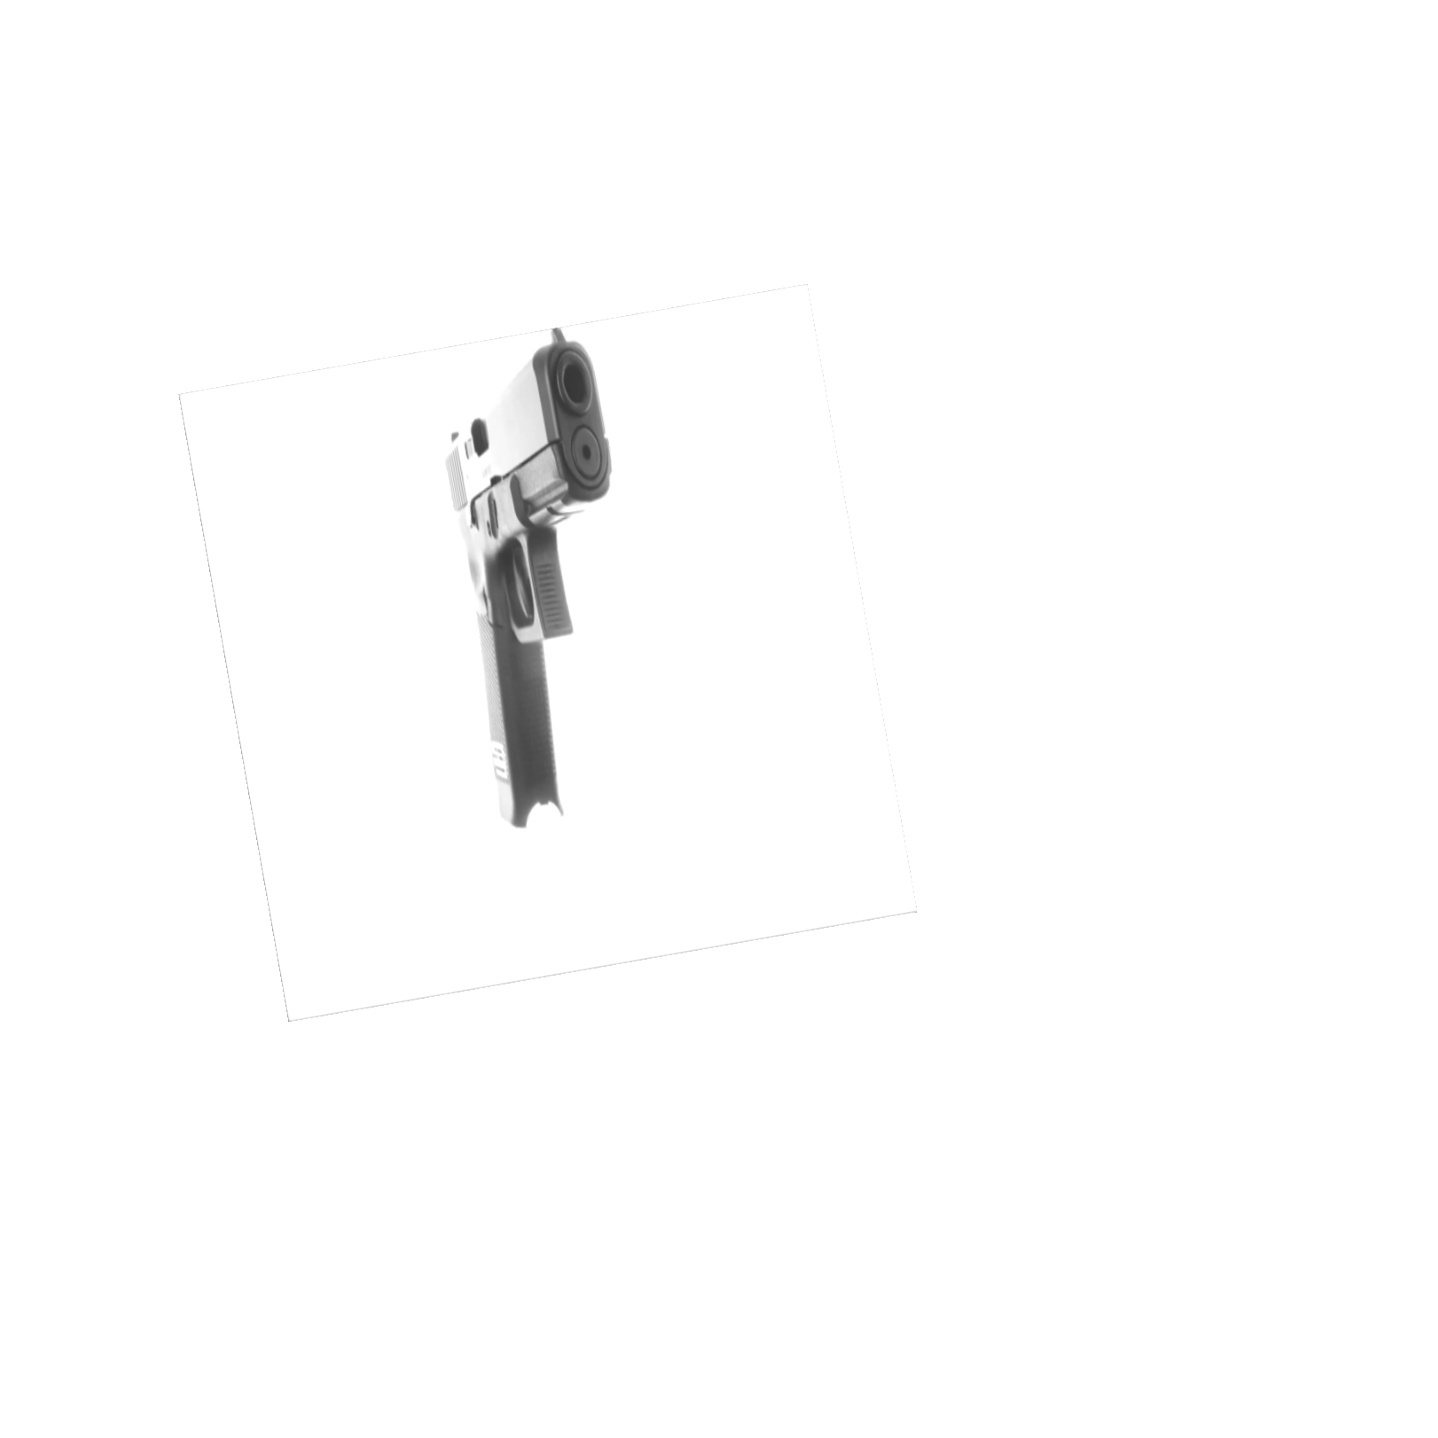gun: (415, 323, 641, 834)
